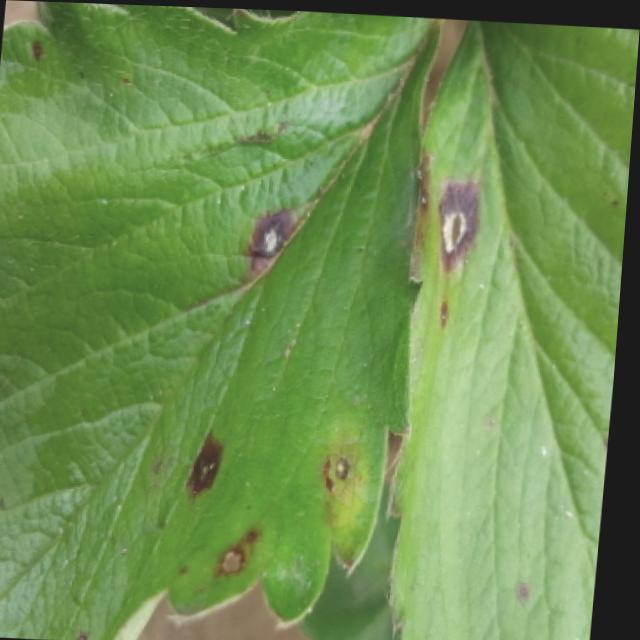Leaf Spot: (0, 1, 441, 640), (393, 16, 640, 640)
